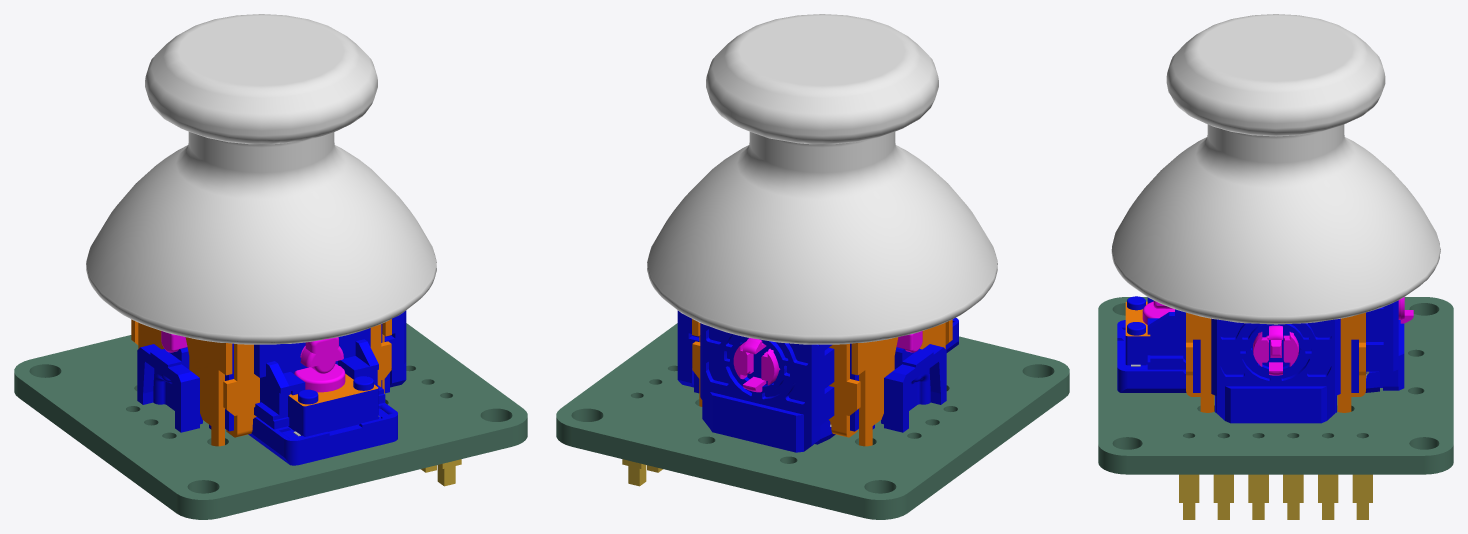
File: Alpsalpine-pogo.glb
3 renders of one model, left to right at view 1: azimuth 30°, elevation 25°; view 2: azimuth 150°, elevation 25°; view 3: azimuth 270°, elevation 25°, orthographic. The views are drawn at different scales.
Parts seen in each view (by area): view 1: JT_J1 (×2), =>[0:1:1:5]; view 2: JT_J1 (×2), =>[0:1:1:5]; view 3: JT_J1 (×2), =>[0:1:1:5], JT_P4, JT_P3, JT_P5, JT_P2, JT_P1, JT_P6.
Boxes of the visible parts, x1,y1,x2,y2 form: JT_J1 (×2): (86,14,436,465); =>[0:1:1:5]: (14,323,527,519); JT_J1 (×2): (647,14,997,452); =>[0:1:1:5]: (556,323,1069,519); JT_J1 (×2): (1111,14,1440,423); =>[0:1:1:5]: (1098,297,1453,474); JT_P4: (1248,474,1268,519); JT_P3: (1283,474,1303,519); JT_P5: (1213,474,1233,519); JT_P2: (1318,474,1338,519); JT_P1: (1352,474,1372,519); JT_P6: (1179,474,1199,519).
Size of the model in its own units: 0.0275 by 0.0327 by 0.026.
